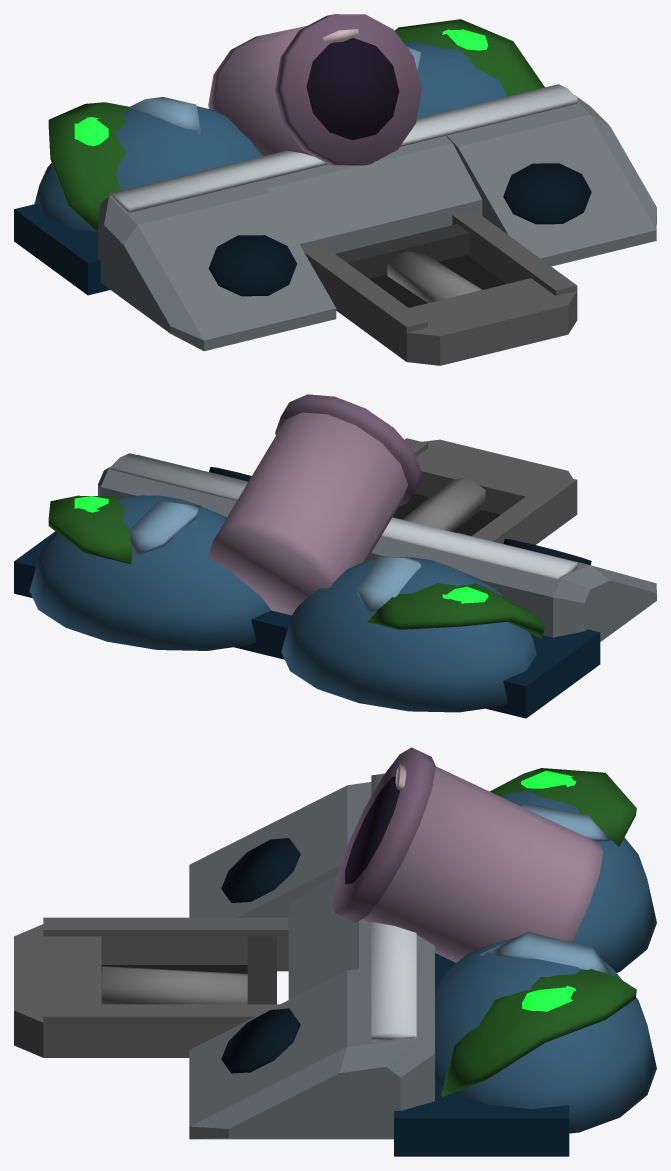
File: newshc-155.glb
3 views of the same model, one above another, from view 1: azimuth 30°, elevation 25°; view 2: azimuth 150°, elevation 25°; view 3: azimuth 270°, elevation 25° (orthographic). The views are drawn at different scales.
Visible parts, largest first — view 1: newshc-155; view 2: newshc-155; view 3: newshc-155.
Part boxes in pixels (<box>): newshc-155: <box>14,14,656,365</box>; newshc-155: <box>14,394,656,718</box>; newshc-155: <box>14,747,656,1156</box>.
Size of the model in its own units: 2 by 0.7916 by 1.83.
